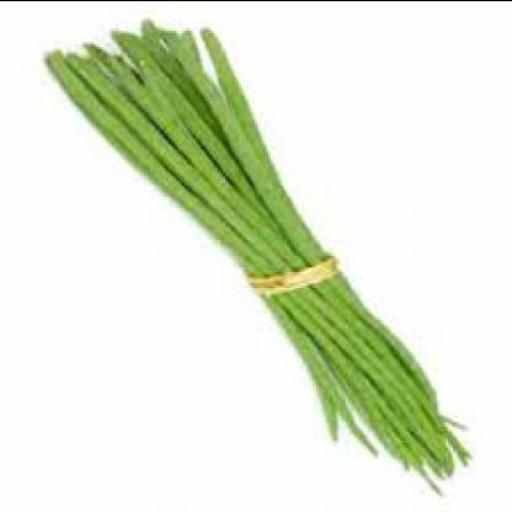biodegradable: (47, 21, 476, 496)
